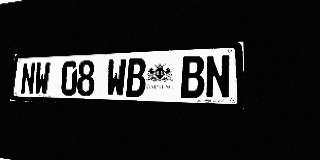0: (60, 61, 78, 96)
8: (77, 60, 95, 96)
B: (181, 55, 204, 98), (126, 58, 146, 97)
N: (205, 54, 230, 99), (20, 62, 36, 95)
W: (106, 59, 126, 97), (34, 62, 50, 95)
